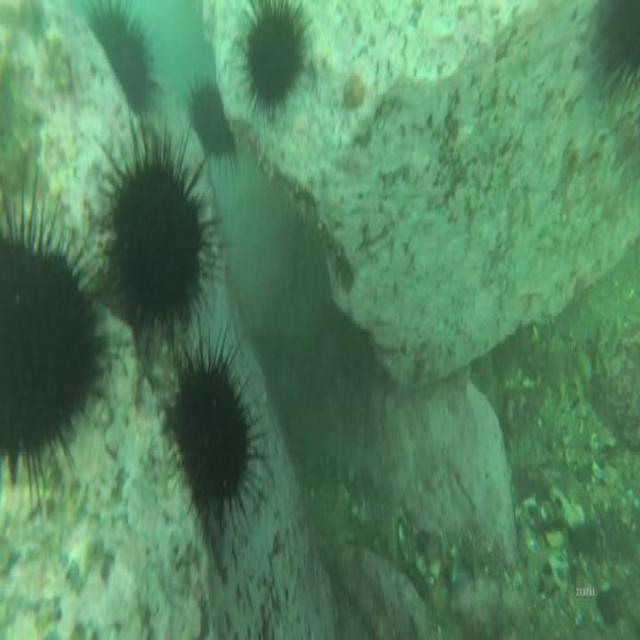echinus: (0, 168, 108, 522), (84, 110, 228, 370), (160, 308, 274, 547), (77, 0, 167, 120), (236, 0, 320, 119), (182, 66, 252, 190)
